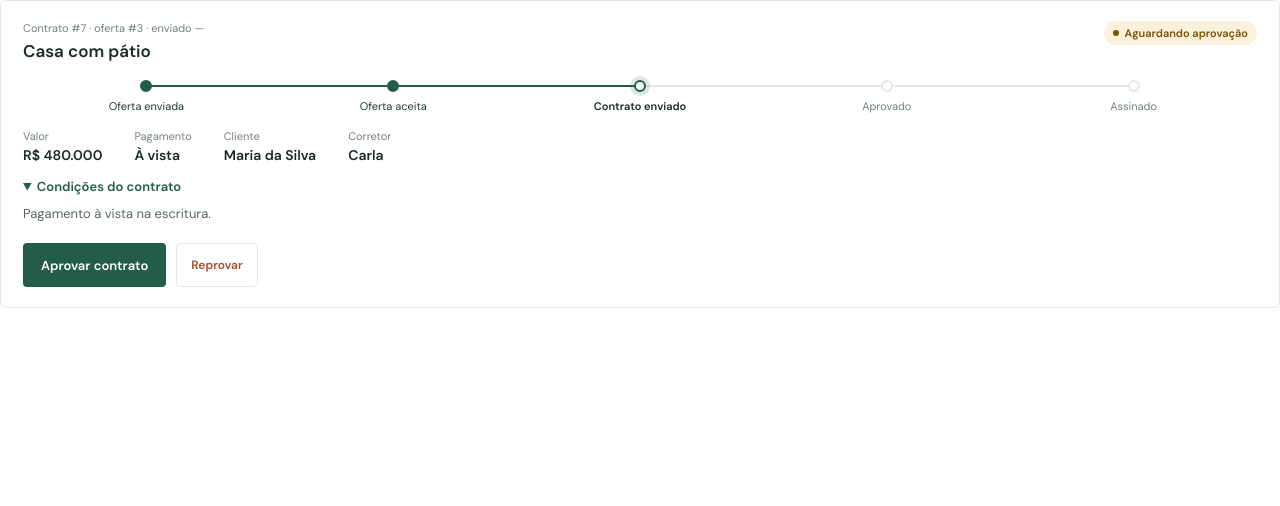
Test case: aprovação do contrato (administrador) › exige motivo para reprovar e mostra o erro da API
Click the button "Reprovar" at x=217, y=265, box x1=176 y1=243 x2=258 y2=287
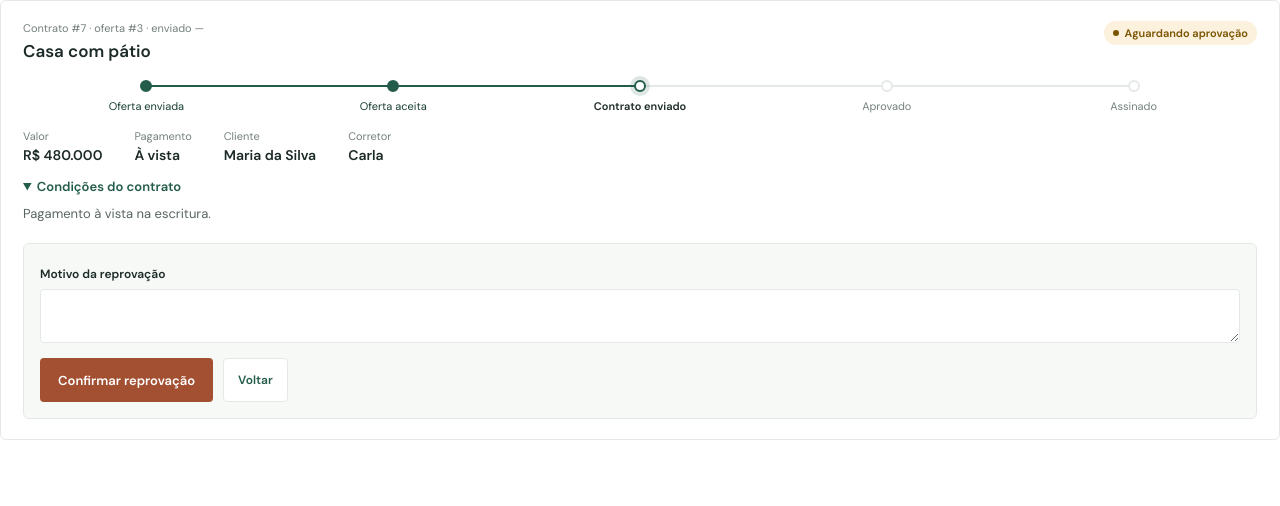
Click the button "Confirmar reprovação" at x=126, y=380, box x1=40 y1=358 x2=213 y2=402
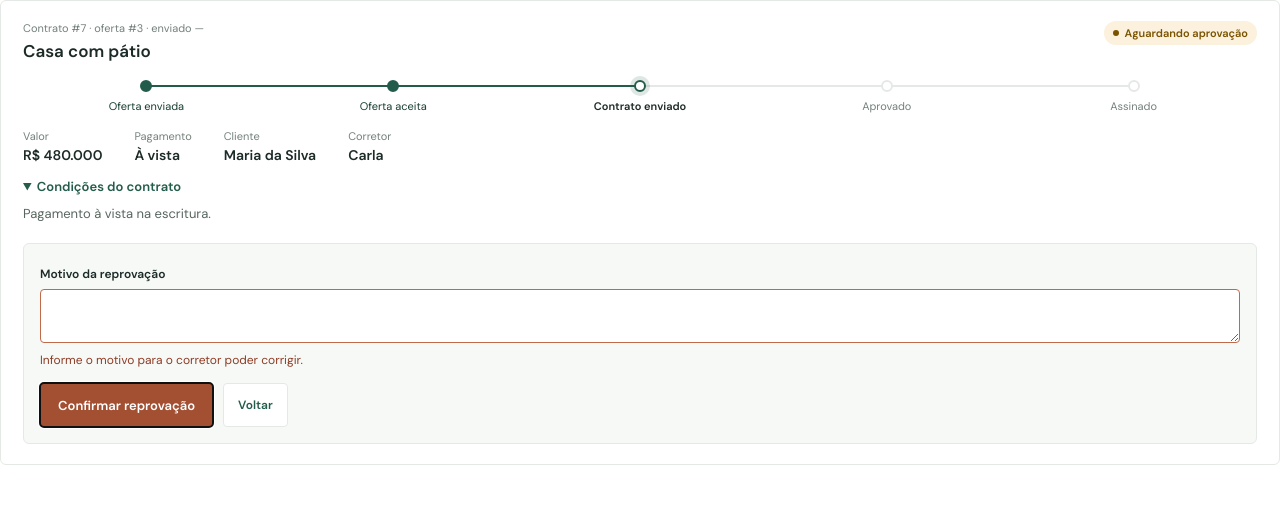
Check: the text "Informe o motivo para o corretor poder corrigir." is shown, box x1=40 y1=352 x2=303 y2=368
Type "Faltam cláusulas" into the text box labelled "Motivo da reprovação" at x=640, y=316, box x1=40 y1=289 x2=1240 y2=343
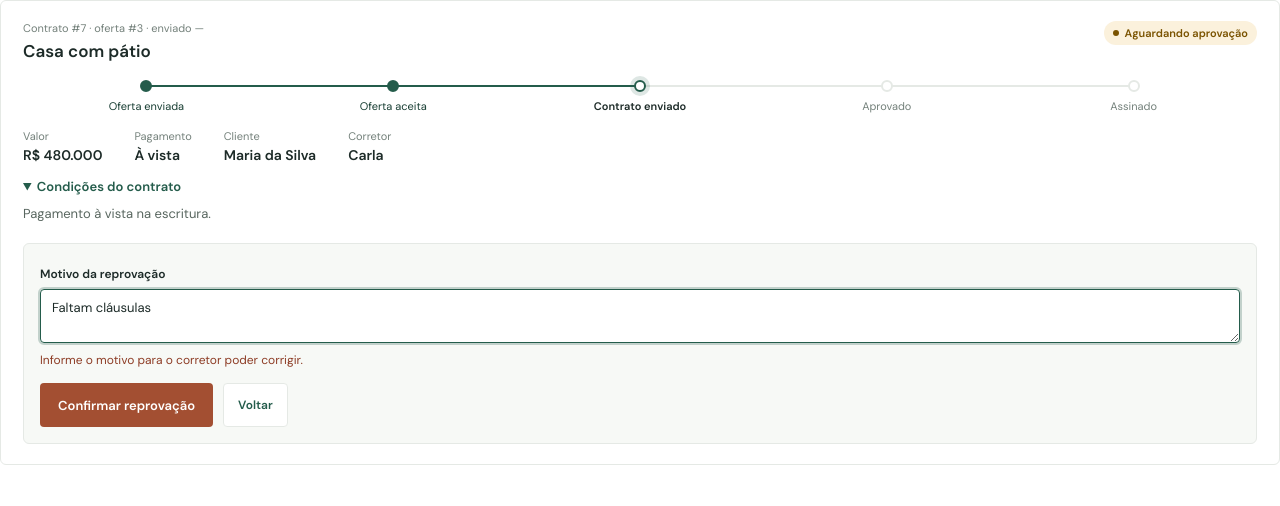
Click the button "Confirmar reprovação" at x=126, y=405, box x1=40 y1=383 x2=213 y2=427
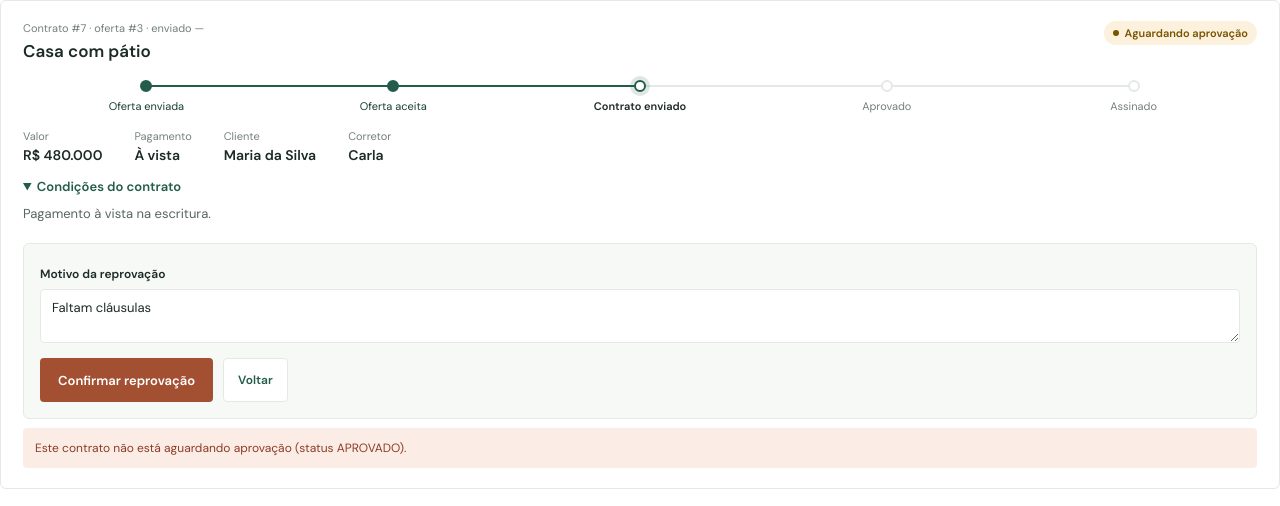
Check: the message shows "não está aguardando aprovação", box x1=35 y1=440 x2=406 y2=456
